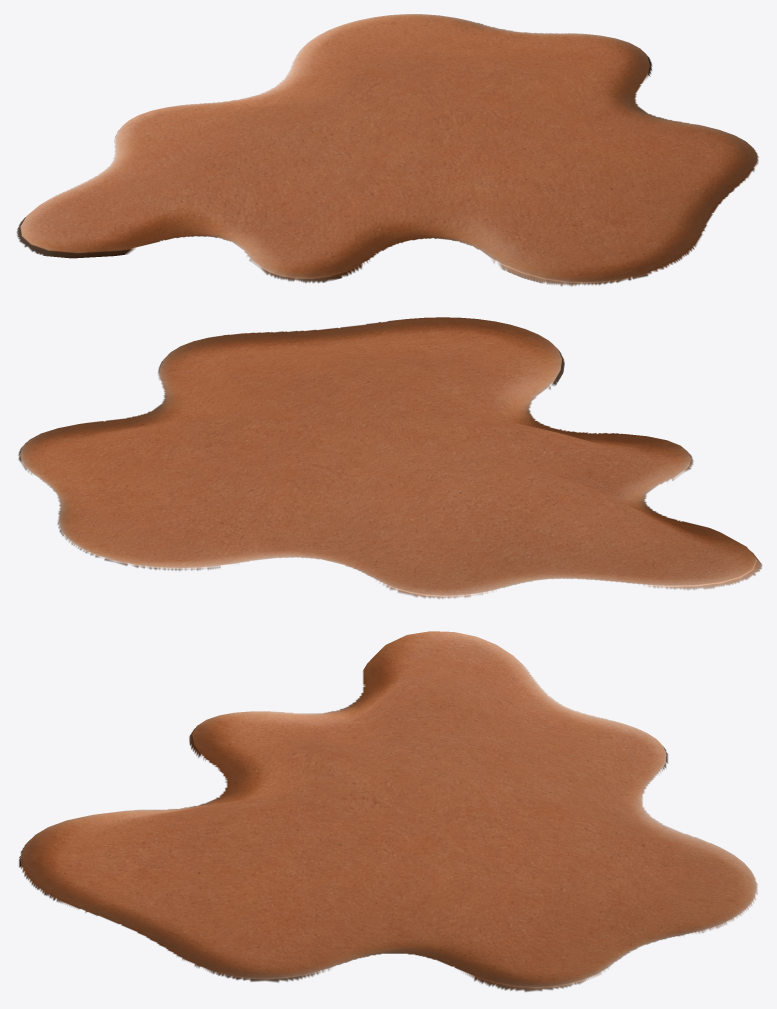
The model's file is dirt_8.glb.
3 views of the same model, one above another, from view 1: azimuth 30°, elevation 25°; view 2: azimuth 150°, elevation 25°; view 3: azimuth 270°, elevation 25° (orthographic). The views are drawn at different scales.
Visible parts, largest first — view 1: dirt_8; view 2: dirt_8; view 3: dirt_8.
Boxes of the visible parts, x1,y1,x2,y2 form: dirt_8: (16, 14, 758, 286); dirt_8: (18, 317, 762, 599); dirt_8: (19, 631, 757, 991).
Size of the model in its own units: 0.8654 by 0.057 by 0.7569.
Materials: 1 (1 with a texture image).
